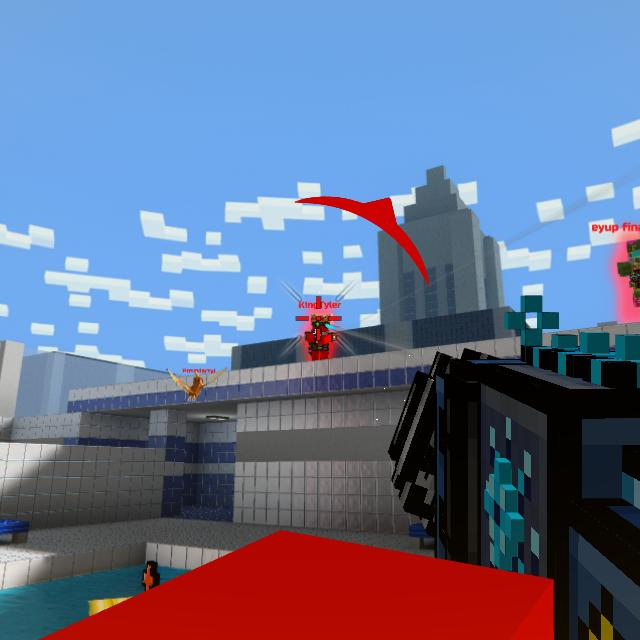Enemy: (617, 242, 640, 313), (305, 315, 336, 361)
